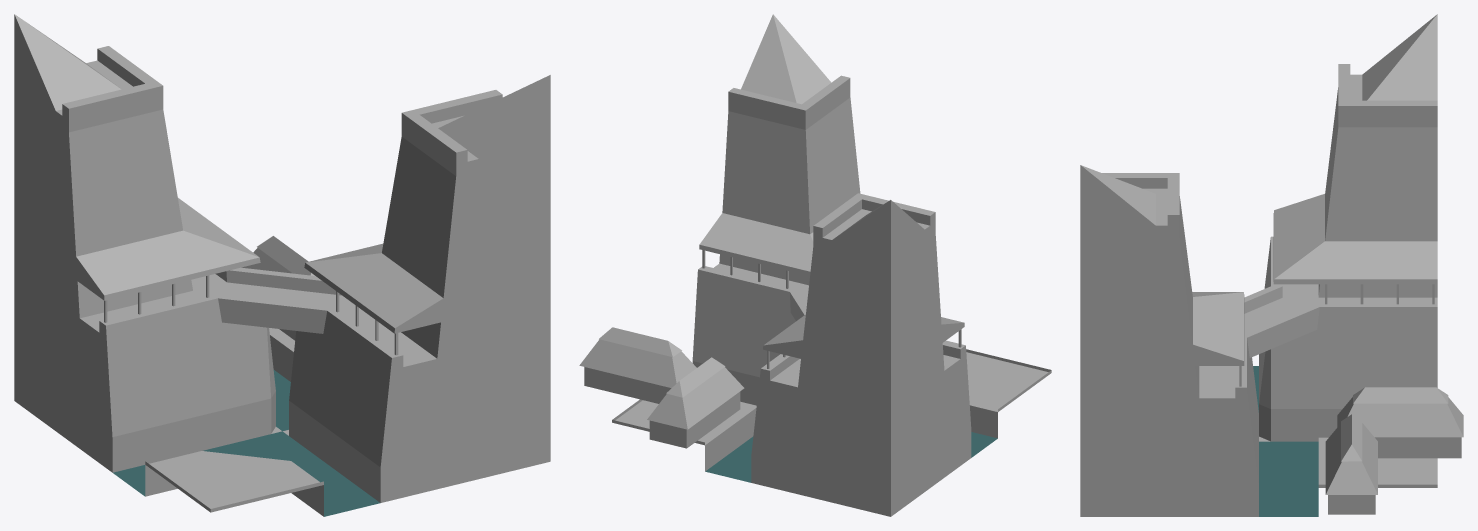
3 views of the same model, side by side, from view 1: azimuth 30°, elevation 25°; view 2: azimuth 150°, elevation 25°; view 3: azimuth 270°, elevation 25° (orthographic). The views are drawn at different scales.
Parts seen in each view (by area): view 1: c1cr; view 2: c1cr; view 3: c1cr.
Boxes of the visible parts, x1,y1,x2,y2 form: c1cr: (14, 14, 550, 516); c1cr: (579, 14, 1051, 516); c1cr: (1080, 14, 1463, 516).
Size of the model in its own units: 36.43 by 32.63 by 32.18.
